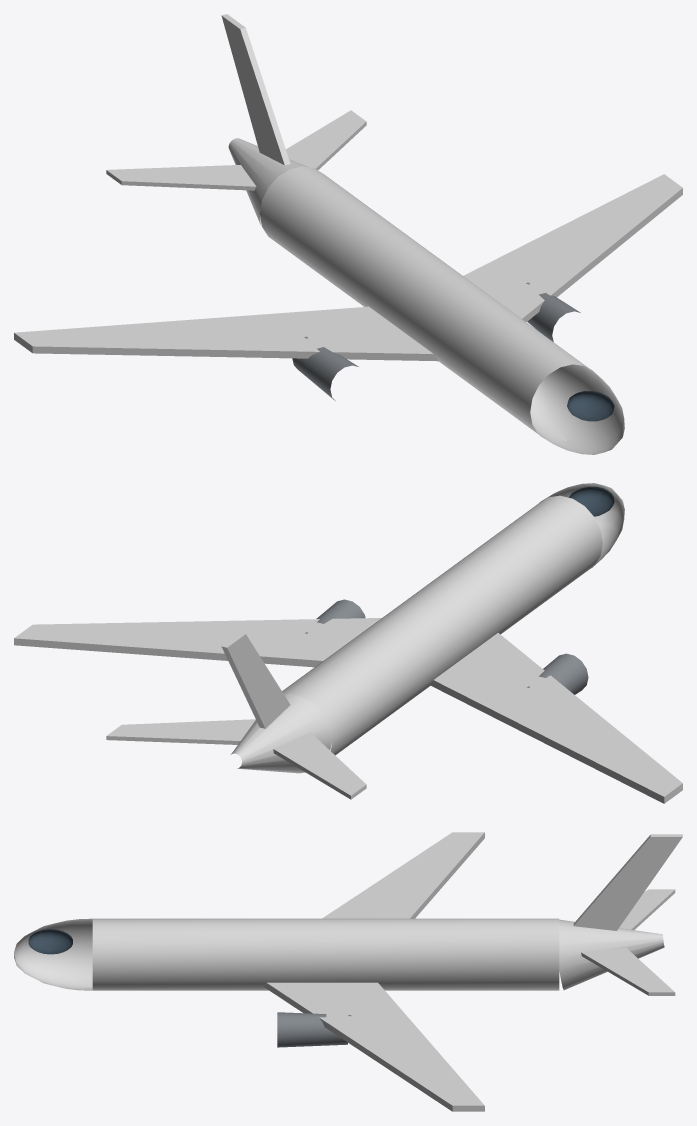
Rendered from aviao.glb.
3 renders of one model, top to bottom at view 1: azimuth 30°, elevation 25°; view 2: azimuth 150°, elevation 25°; view 3: azimuth 270°, elevation 25°, orthographic. The views are drawn at different scales.
Visible parts, largest first — view 1: aviao; view 2: aviao; view 3: aviao.
Part boxes in pixels (bbox=[...]): aviao: bbox=[14, 14, 682, 454]; aviao: bbox=[14, 483, 682, 803]; aviao: bbox=[14, 832, 682, 1111].
Bounding box in the file's own units: 34 × 9.48 × 35.14.
